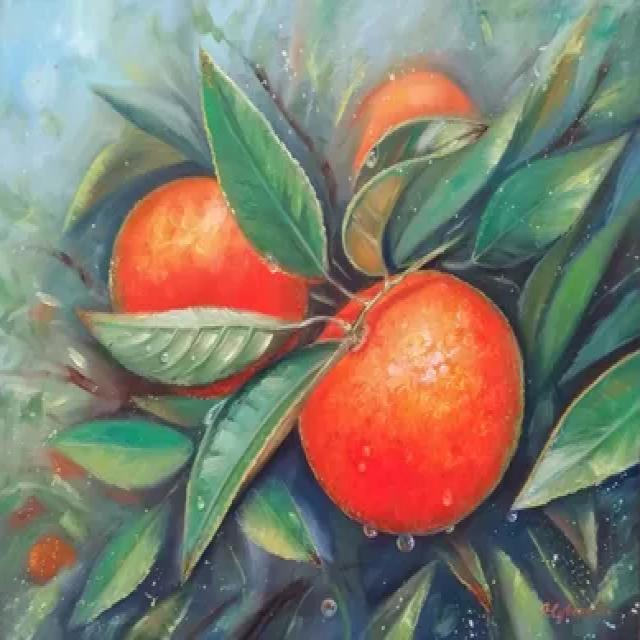orange: (290, 262, 532, 558)
